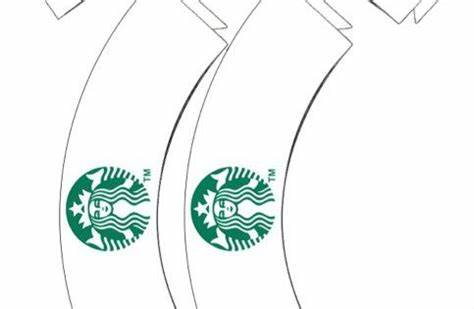starbucks Originale: (59, 157, 155, 264), (188, 161, 282, 259)
